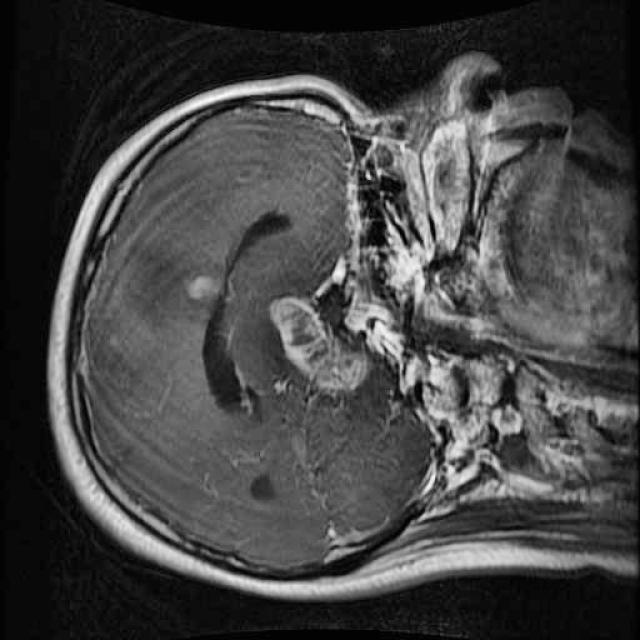Non-Tumor: (258, 282, 385, 410)
